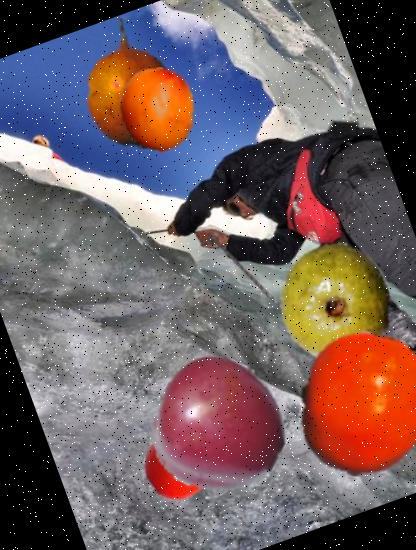Apricot: (102, 54, 211, 163)
Cherry: (134, 341, 304, 511)
Clementine: (272, 310, 416, 496)
Granadilla: (47, 0, 214, 166)
Guava: (259, 225, 413, 379)
Tomato: (134, 422, 222, 509)
